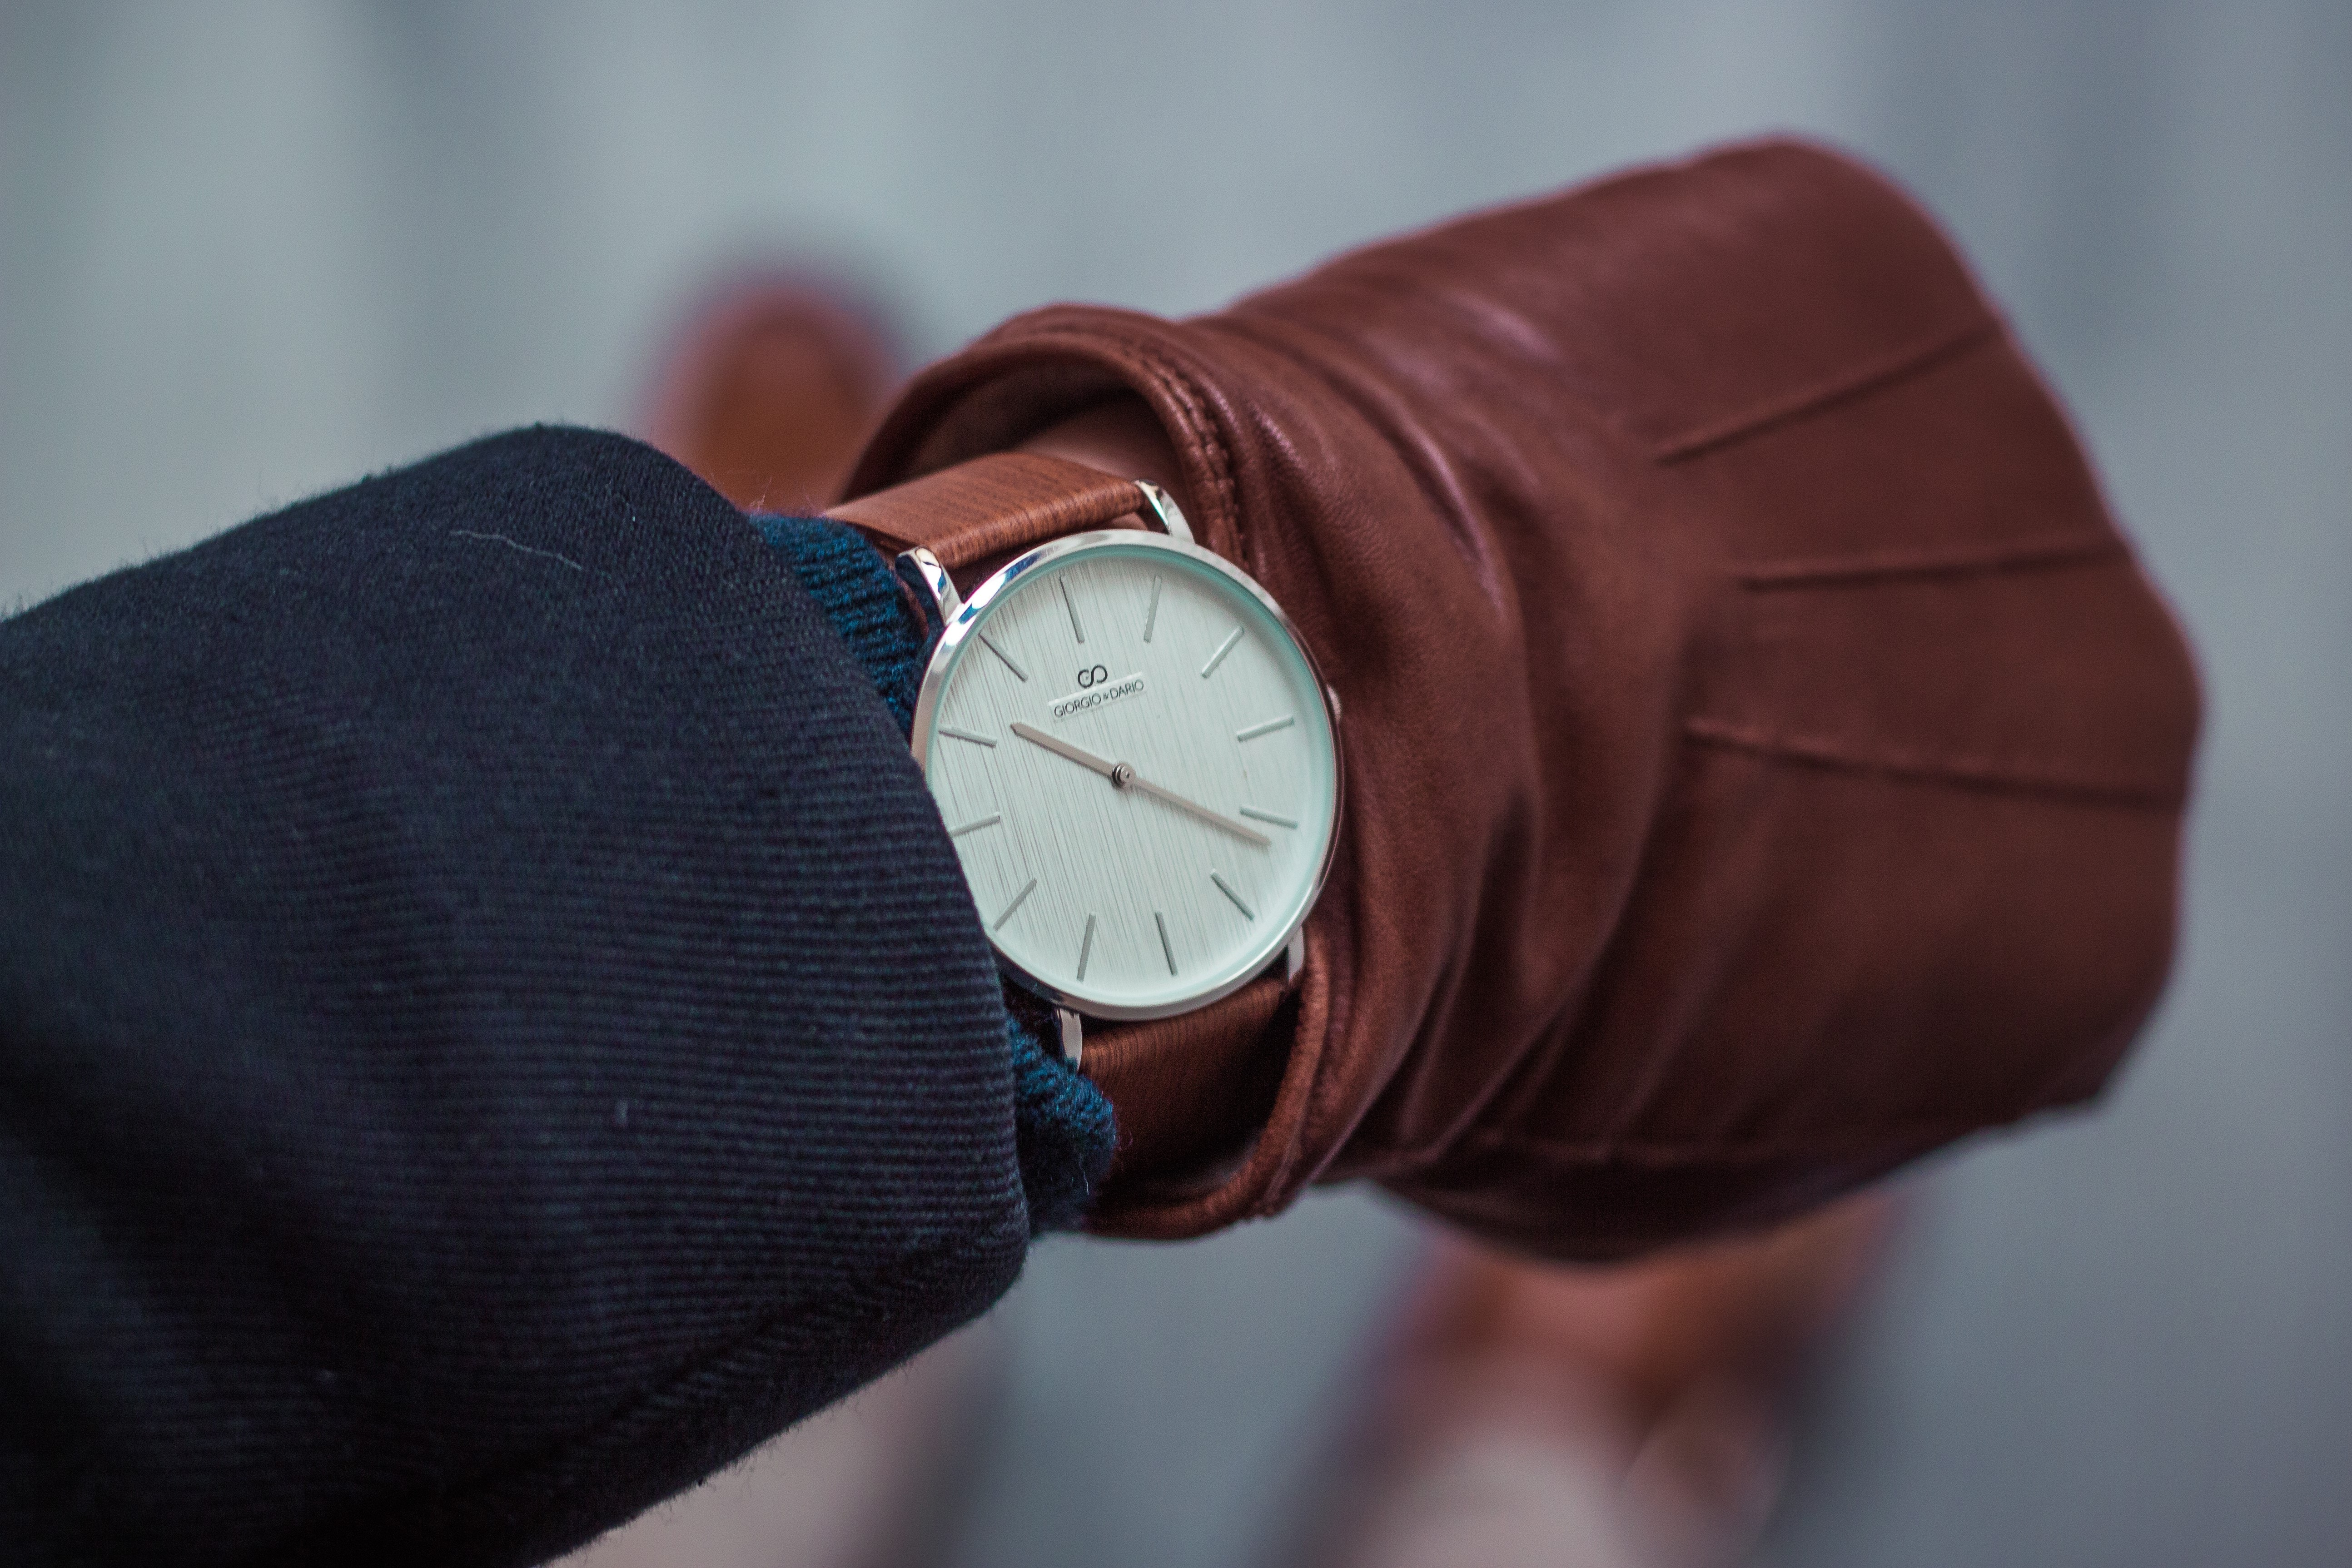fist: (1353, 133, 2130, 1228)
